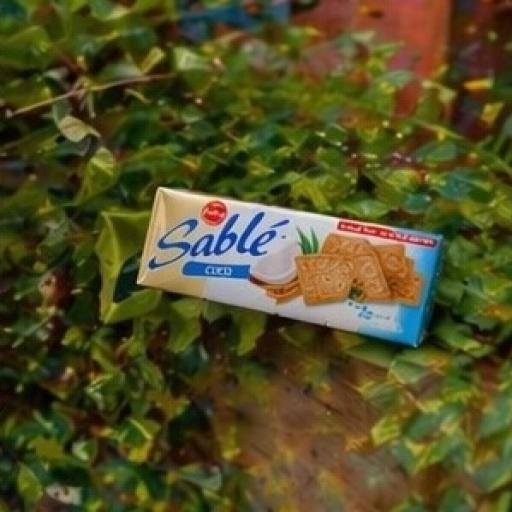sable: (99, 130, 475, 404)
